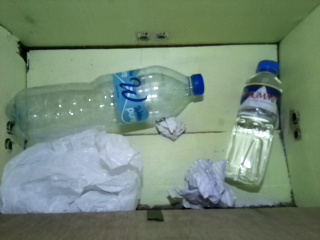bottle: (6, 66, 205, 145), (221, 59, 284, 185)
paper: (169, 160, 236, 211), (151, 112, 189, 144)
plastic-bag: (1, 126, 145, 214)
